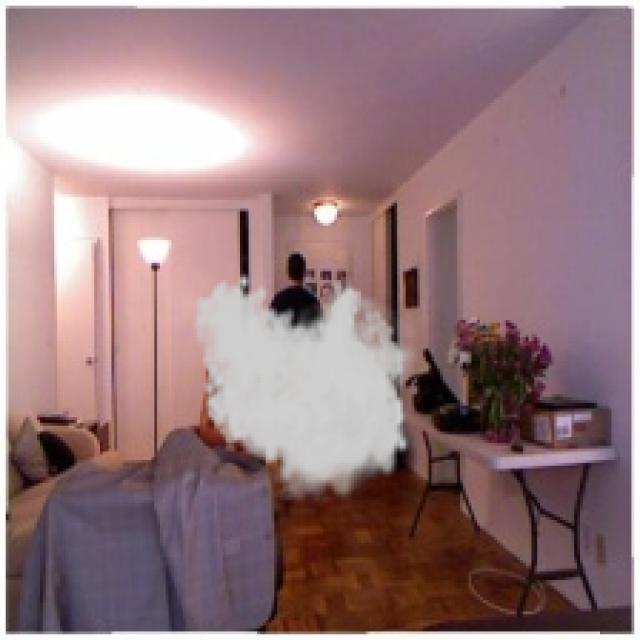Smoke: (191, 272, 423, 508)
